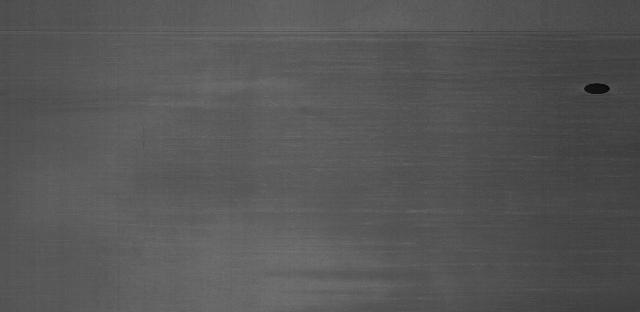punching_hole: (581, 82, 613, 97)
welding_line: (4, 14, 634, 47)
